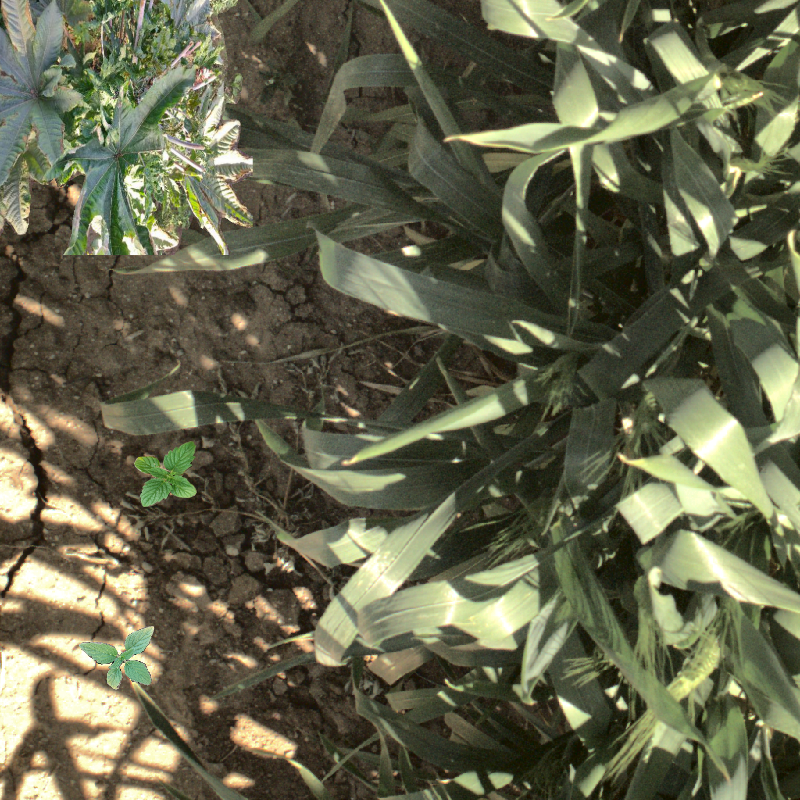spikelet: (664, 631, 723, 711), (628, 598, 658, 667)
weed: (1, 1, 253, 255), (78, 617, 173, 704), (134, 443, 197, 509)
